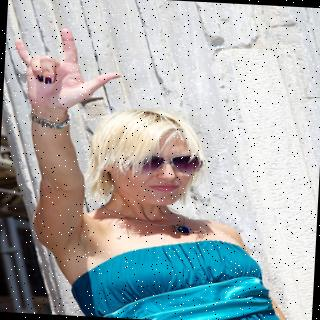I Love You: (12, 23, 149, 128)
